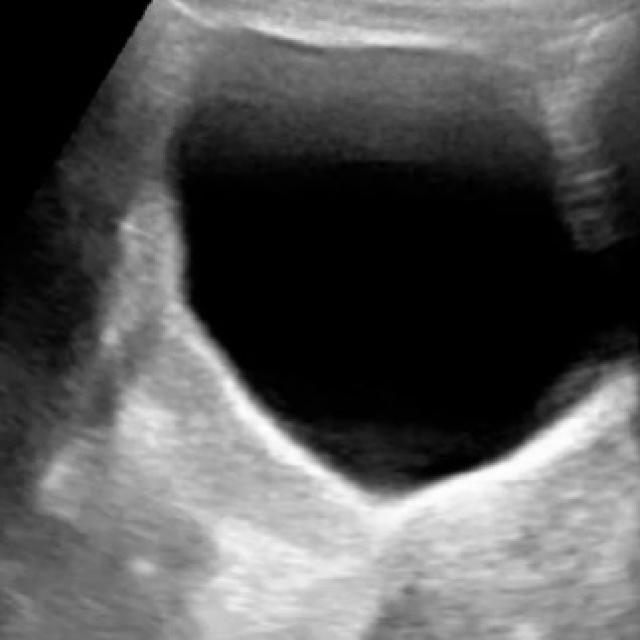bladder: (147, 27, 607, 534)
